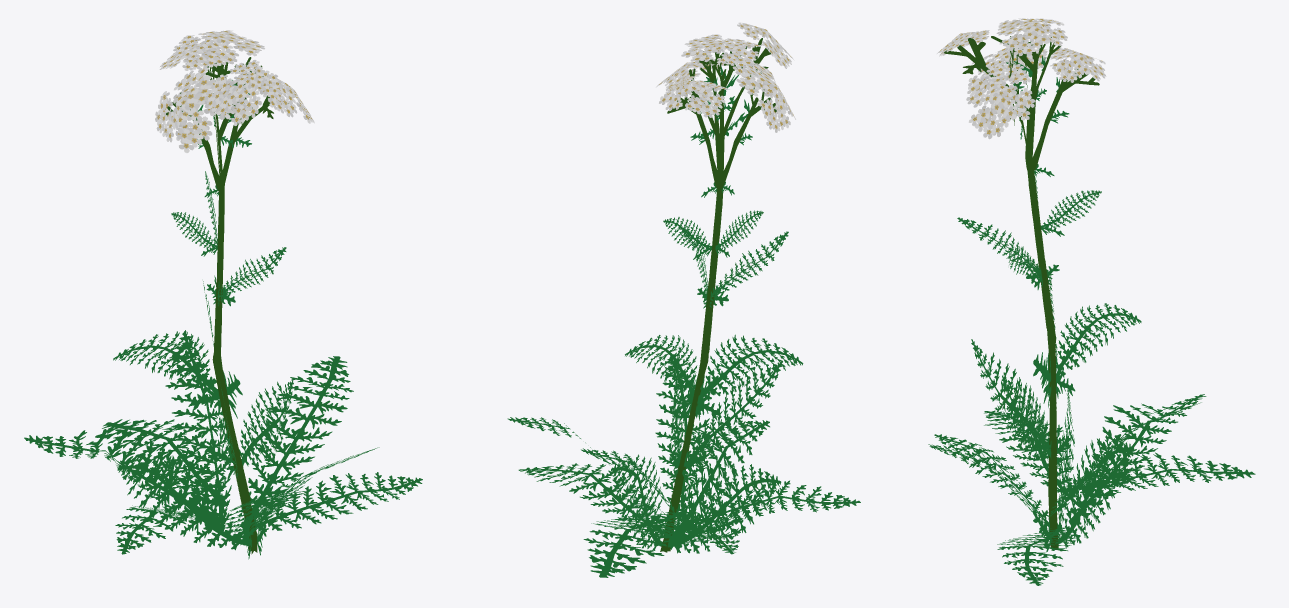
File: PT_Yarrow_01.fbx
3 views of the same model, side by side, from view 1: azimuth 30°, elevation 25°; view 2: azimuth 150°, elevation 25°; view 3: azimuth 270°, elevation 25° (orthographic). The views are drawn at different scales.
Visible parts, largest first — view 1: PT_Yarrow_01_LOD0; view 2: PT_Yarrow_01_LOD0; view 3: PT_Yarrow_01_LOD0.
Boxes of the visible parts, x1,y1,x2,y2 form: PT_Yarrow_01_LOD0: (24,30,422,559); PT_Yarrow_01_LOD0: (507,22,860,577); PT_Yarrow_01_LOD0: (928,18,1255,585).
Size of what is drawn, in the model's own units: 77.81 by 107 by 69.59.
